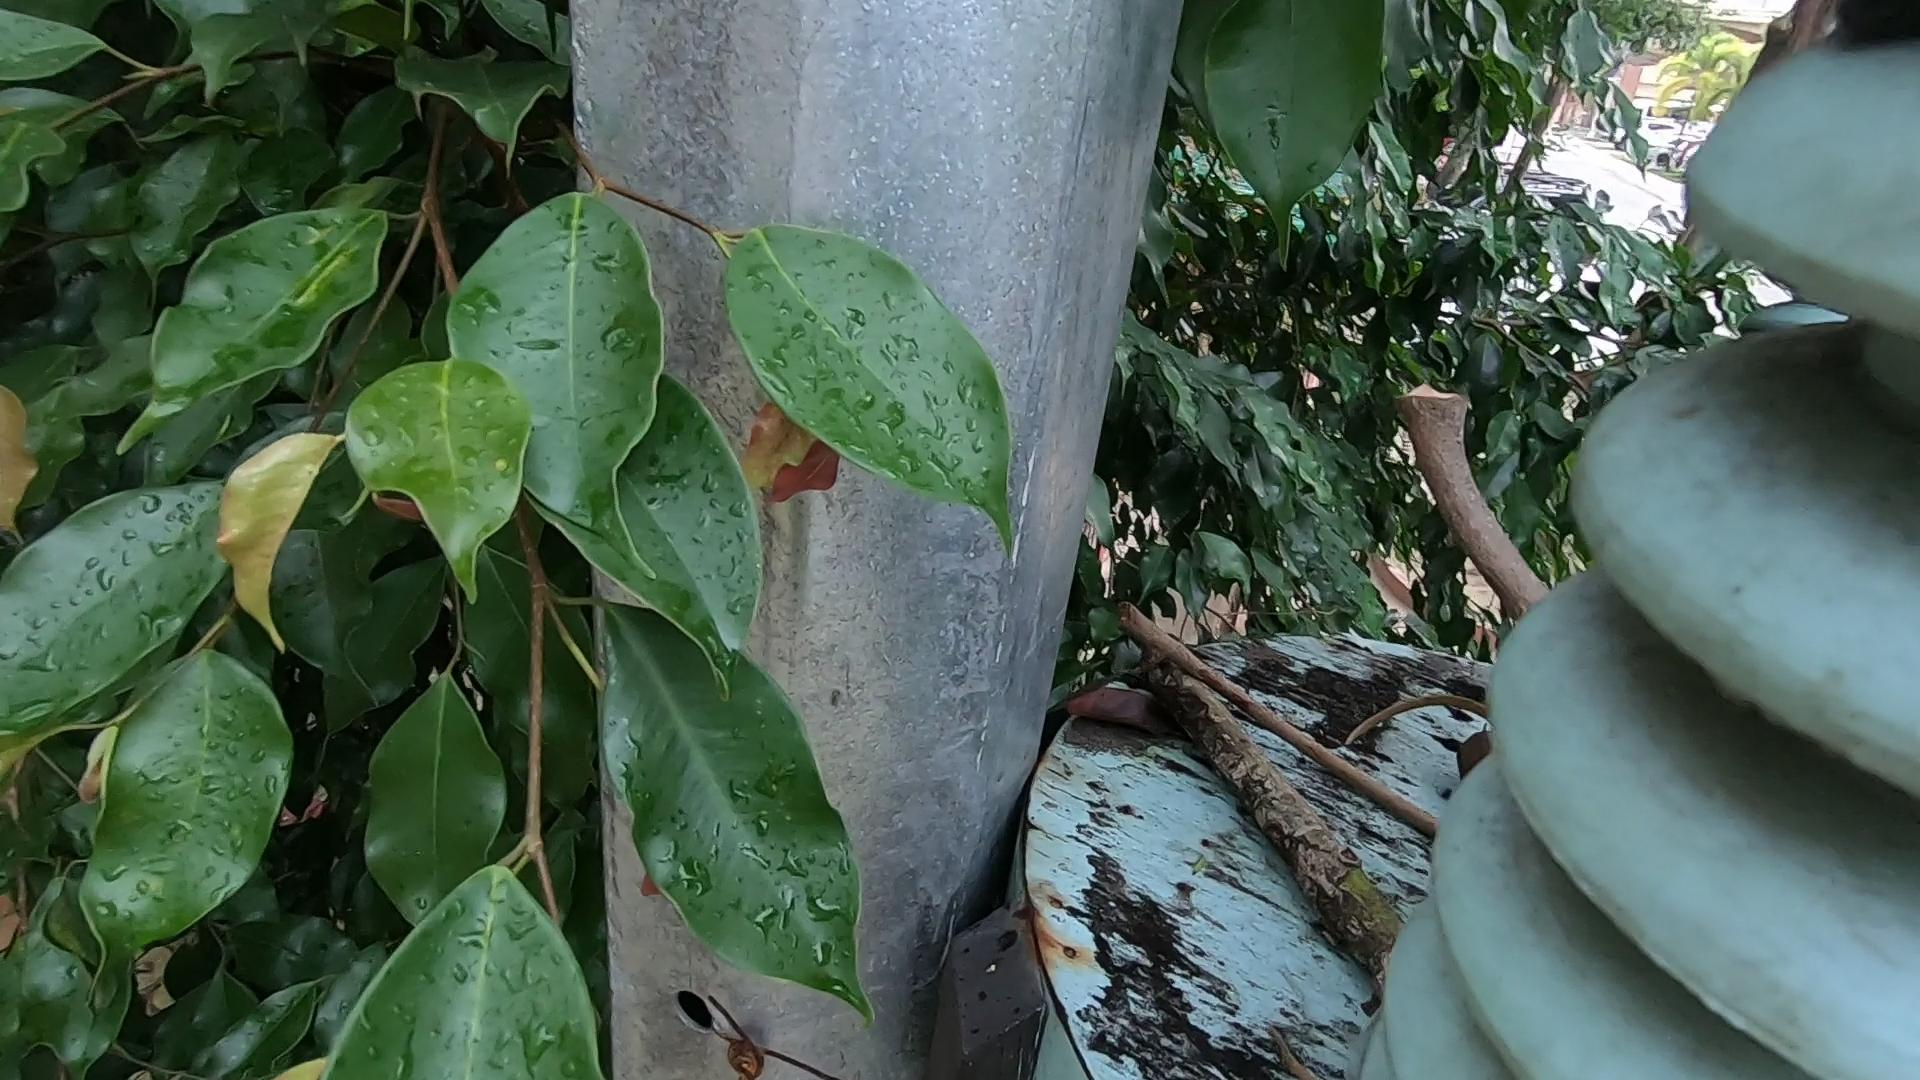branch with leaves: (1149, 655, 1383, 988)
leaf: (1044, 669, 1193, 752)
tree branch: (1116, 622, 1435, 836), (1420, 351, 1556, 644)
